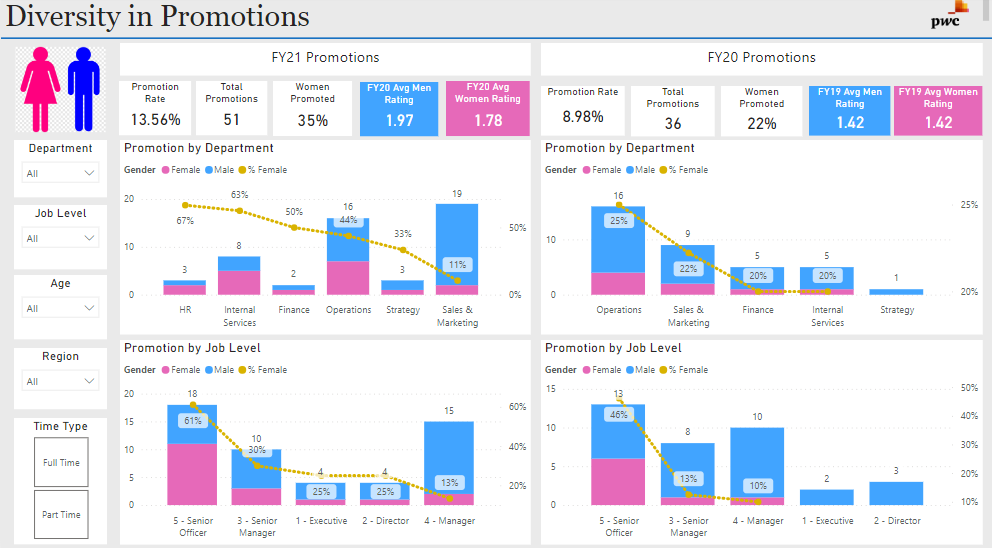

The dashboard page shown, as its layout file describes it:
{"tool":"powerbi","page":{"name":"Promotions","canvas":[1280,720],"ordinal":2},"visuals":[{"type":"slicer","title":"Department","fields":{"Values":["Pharma Group AG.Last Department in FY20"]},"box":[16.3,185.4,120.1,74.2],"z":0},{"type":"slicer","title":"Region","fields":{"Values":["Pharma Group AG.Region group: nationality 1"]},"box":[16.3,453.9,120.1,78.6],"z":1000},{"type":"card","title":"Women Promoted","fields":{"Values":["Pharma Group AG.% Women Promoted in FY21"]},"box":[351,109.8,102.3,71.2],"z":2000},{"type":"card","title":"Women Promoted","fields":{"Values":["Pharma Group AG.% Women Promoted in FY20"]},"box":[929.8,116,105.3,65.3],"z":2000,"group":"g1"},{"type":"slicer","title":"Age","fields":{"Values":["Pharma Group AG.Age group"]},"box":[16.3,360.4,120.1,83.1],"z":3000},{"type":"lineStackedColumnComboChart","title":"Promotion by Department","fields":{"Category":["Pharma Group AG.Department @01.07.2020"],"Y":["CountNonNull(Pharma Group AG.Promotion in FY21?)"],"Y2":["Pharma Group AG.% Female"],"Series":["Pharma Group AG.Gender"]},"box":[153.1,185.5,529.9,250.7],"z":4000},{"type":"slicer","title":"Job Level","fields":{"Values":["Pharma Group AG.Job Level after FY20 promotions"]},"box":[16.3,269.9,120.1,83.1],"z":5000},{"type":"card","title":"FY19 Avg Men Rating","fields":{"Values":["Avg(Pharma Group AG.FY19 Performance Rating)"]},"box":[1042.5,116,105.3,63.8],"z":6000,"group":"g1"},{"type":"lineStackedColumnComboChart","title":"Promotion by Job Level","fields":{"Category":["Pharma Group AG.Job Level after FY21 promotions"],"Y":["CountNonNull(Pharma Group AG.Promotion in FY21?)"],"Y2":["Pharma Group AG.% Female"],"Series":["Pharma Group AG.Gender"]},"box":[153.1,443.6,529.9,264],"z":6000},{"type":"textbox","box":[0,0,1280,54.9],"z":7000},{"type":"card","title":"FY20 Avg Men Rating","fields":{"Values":["Pharma Group AG.Avg Rating of Men"]},"box":[462.8,111.2,100.9,69.7],"z":8000},{"type":"card","title":"FY19 Avg Women Rating","fields":{"Values":["Avg(Pharma Group AG.FY19 Performance Rating)"]},"box":[1152.3,116,114.2,63.8],"z":8000,"group":"g1"},{"type":"shape","box":[0,47.5,1280,13.3],"z":9000},{"type":"card","title":"FY20 Avg Women Rating","fields":{"Values":["Pharma Group AG.Avg Rating of Women"]},"box":[574,109.8,108.3,71.2],"z":10000},{"type":"lineStackedColumnComboChart","title":"Promotion by Department","fields":{"Category":["Pharma Group AG.Last Department in FY20"],"Y2":["Pharma Group AG.% Female"],"Series":["Pharma Group AG.Gender"],"Y":["CountNonNull(Pharma Group AG.Promotion in FY20?)"]},"box":[697.1,185.4,569.5,250.7],"z":11000,"group":"g1"},{"type":"slicer","title":"Time Type","fields":{"Values":["Pharma Group AG.Time type"]},"box":[16.3,544.3,120.1,163.2],"z":11000},{"type":"card","title":"Total Promotions","fields":{"Values":["CountNonNull(Pharma Group AG.Employee ID)"]},"box":[252.1,109.8,92,69.7],"z":12000},{"type":"textbox","box":[153.1,60.9,529.9,41.5],"z":13000},{"type":"lineStackedColumnComboChart","title":"Promotion by Job Level","fields":{"Y2":["Pharma Group AG.% Female"],"Series":["Pharma Group AG.Gender"],"Y":["CountNonNull(Pharma Group AG.Promotion in FY20?)"],"Category":["Pharma Group AG.Job Level after FY20 promotions"]},"box":[697.1,443.5,569.5,264],"z":13000,"group":"g1"},{"type":"group","id":"g1","title":"Group 1","box":[697.1,60.8,569.5,646.7],"z":14000},{"type":"image","box":[0,60.8,152.8,120.1],"z":15000},{"type":"image","box":[1168.8,0,111.2,47.5],"z":16000},{"type":"card","title":"Promotion Rate","fields":{"Values":["Pharma Group AG.Promotion rate"]},"box":[152.8,109.8,93.4,69.7],"z":16001},{"type":"card","title":"Promotion Rate","fields":{"Values":["Pharma Group AG.FY20 Promotion rate"]},"box":[697.1,115.7,108.3,63.8],"z":16002},{"type":"card","title":"Total Promotions","fields":{"Values":["CountNonNull(Pharma Group AG.Employee ID)"]},"box":[813,116,108.3,65.3],"z":19000,"group":"g1"},{"type":"textbox","box":[697.1,60.8,569.5,41.5],"z":20000,"group":"g1"}]}

Visuals, with their boxes in screenshot pixels (x1, y1, x2, y2), scaled from the page's 1280x720 canvas onto the 992x548 screenshot:
"Department" slicer: select_region(13, 141, 106, 198)
"Region" slicer: select_region(13, 345, 106, 405)
"Women Promoted" card: select_region(272, 84, 351, 138)
"Women Promoted" card: select_region(721, 88, 802, 138)
"Age" slicer: select_region(13, 274, 106, 338)
"Promotion by Department" lineStackedColumnComboChart: select_region(119, 141, 529, 332)
"Job Level" slicer: select_region(13, 205, 106, 269)
"FY19 Avg Men Rating" card: select_region(808, 88, 890, 137)
"Promotion by Job Level" lineStackedColumnComboChart: select_region(119, 338, 529, 539)
textbox: select_region(0, 0, 991, 42)
"FY20 Avg Men Rating" card: select_region(359, 85, 437, 138)
"FY19 Avg Women Rating" card: select_region(893, 88, 982, 137)
shape: select_region(0, 36, 991, 46)
"FY20 Avg Women Rating" card: select_region(445, 84, 529, 138)
"Promotion by Department" lineStackedColumnComboChart: select_region(540, 141, 982, 332)
"Time Type" slicer: select_region(13, 414, 106, 538)
"Total Promotions" card: select_region(195, 84, 267, 137)
textbox: select_region(119, 46, 529, 78)
"Promotion by Job Level" lineStackedColumnComboChart: select_region(540, 338, 982, 538)
"Group 1" group: select_region(540, 46, 982, 538)
image: select_region(0, 46, 118, 138)
image: select_region(906, 0, 991, 36)
"Promotion Rate" card: select_region(118, 84, 191, 137)
"Promotion Rate" card: select_region(540, 88, 624, 137)
"Total Promotions" card: select_region(630, 88, 714, 138)
textbox: select_region(540, 46, 982, 78)
